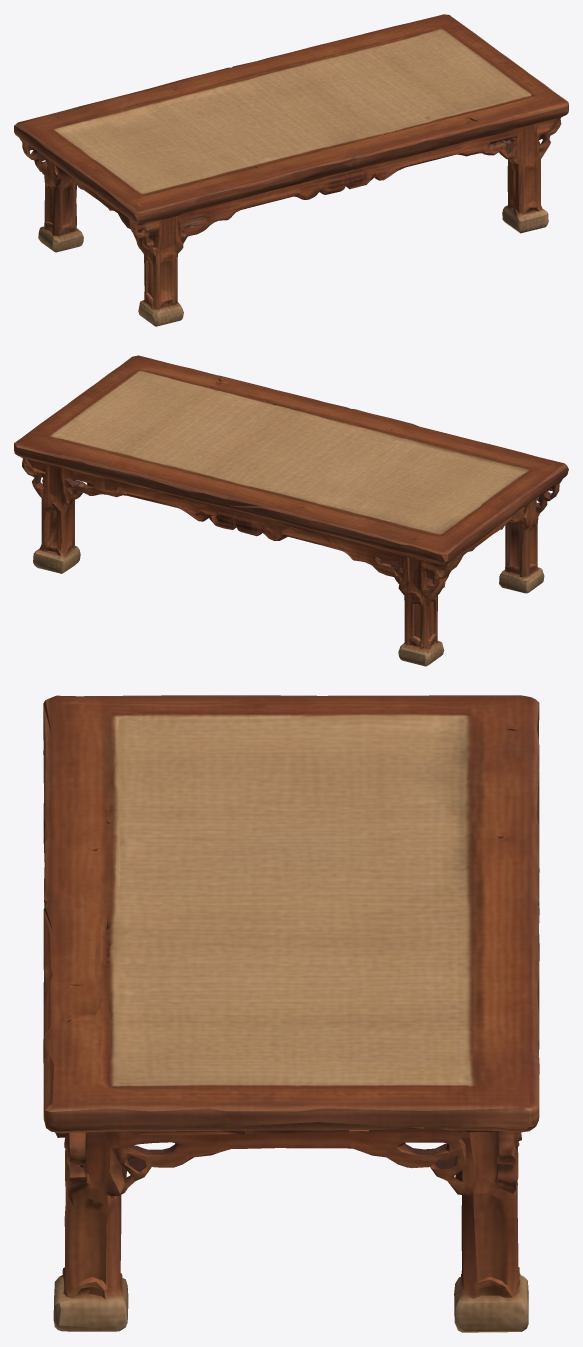
The model's file is altar.glb.
3 renders of one model, top to bottom at view 1: azimuth 30°, elevation 25°; view 2: azimuth 150°, elevation 25°; view 3: azimuth 270°, elevation 25°, orthographic. The views are drawn at different scales.
Visible parts, largest first — view 1: world; view 2: world; view 3: world.
Part boxes in pixels (x1,y1,x2,y2): world: (14, 14, 568, 326); world: (14, 355, 568, 666); world: (43, 695, 539, 1332).
Size of the model in its own units: 1 by 0.2824 by 0.4965.
Materials: 1 (1 with a texture image).
